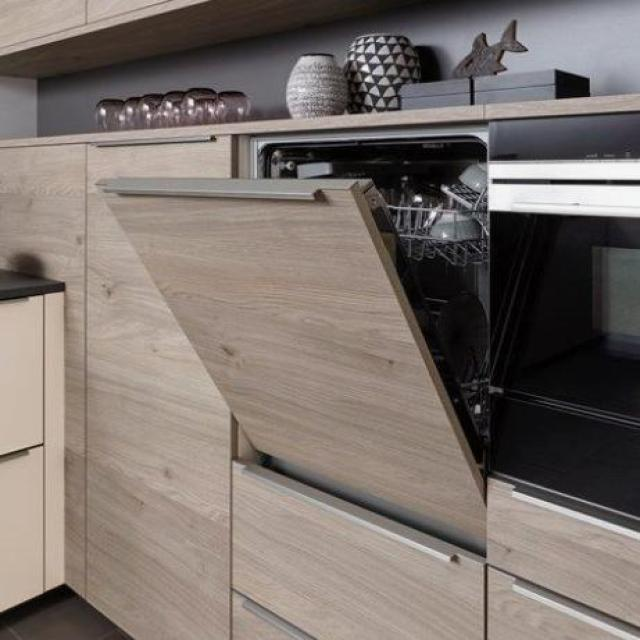dishwasher: (90, 121, 493, 562)
